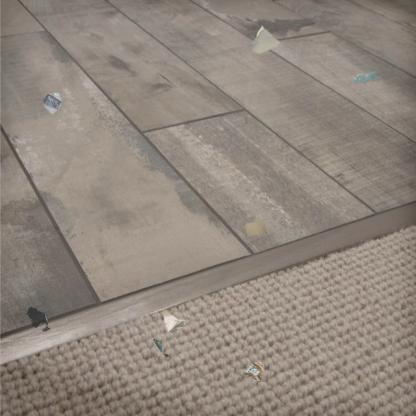dirty: (248, 25, 282, 56), (160, 307, 186, 335), (241, 360, 266, 382), (41, 91, 63, 115), (152, 336, 170, 360), (245, 219, 267, 237)
liquid: (25, 305, 51, 333), (353, 70, 378, 86)
